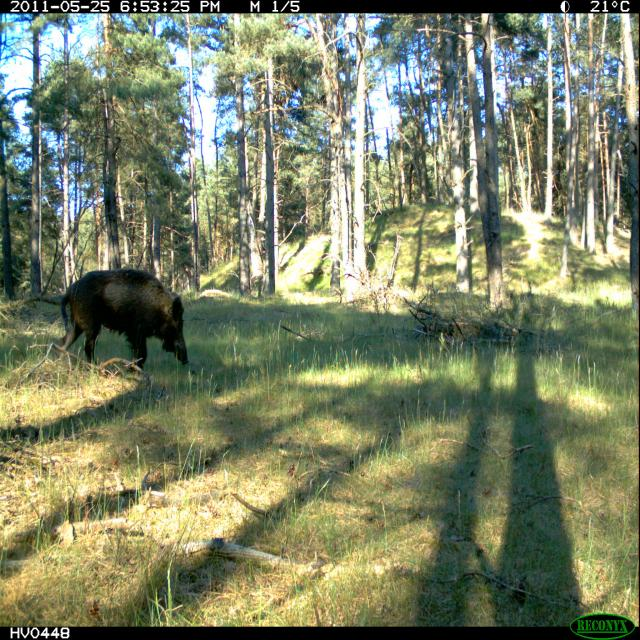boar: (52, 254, 198, 388)
